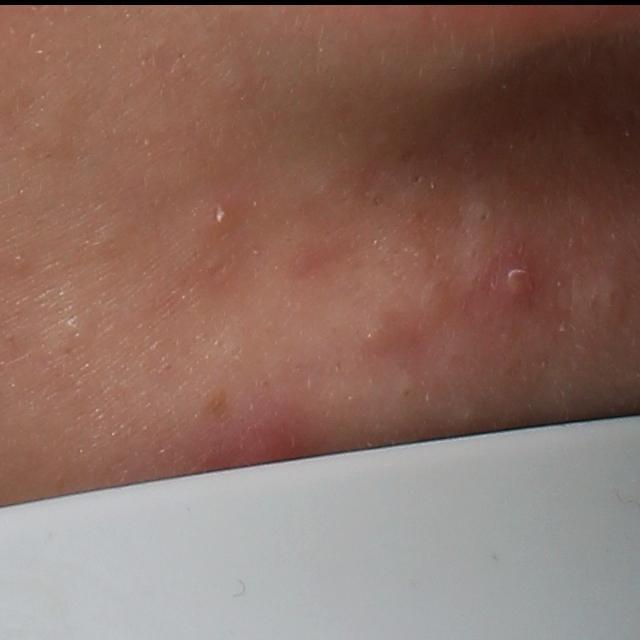comedo: (475, 206, 497, 225)
pustule: (207, 204, 233, 230)
